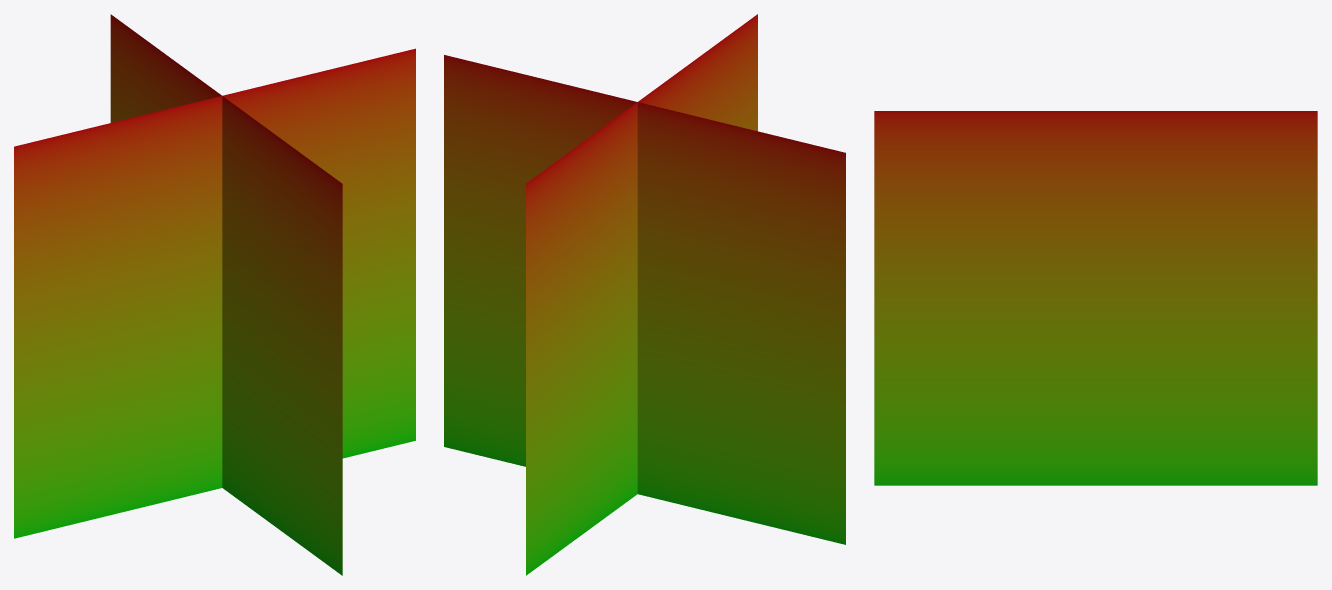
The model's file is Dead Shrubs_LOD4_Var10_vdknafgha.fbx.
3 renders of one model, left to right at view 1: azimuth 30°, elevation 25°; view 2: azimuth 150°, elevation 25°; view 3: azimuth 270°, elevation 25°, orthographic. The views are drawn at different scales.
Parts seen in each view (by area): view 1: _odjh_Var10_LOD4; view 2: _odjh_Var10_LOD4; view 3: _odjh_Var10_LOD4.
Boxes of the visible parts, left/top/right/bottom form: _odjh_Var10_LOD4: left=14, top=14, right=415, bottom=575; _odjh_Var10_LOD4: left=444, top=14, right=845, bottom=575; _odjh_Var10_LOD4: left=874, top=111, right=1317, bottom=485.
Size of the model in its own units: 27.77 by 25.89 by 27.77.
